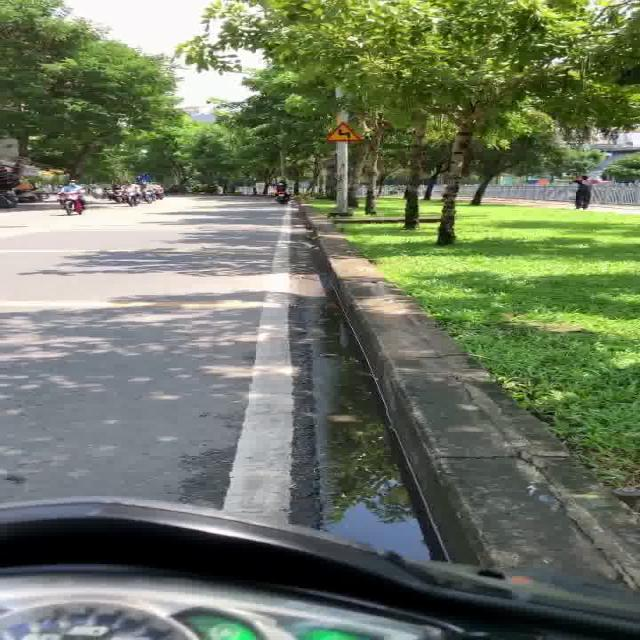Bien bao nhieu cho ngoat nguy hiem lien tiep: (318, 121, 368, 144)
